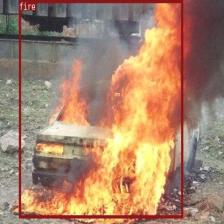fire: (19, 0, 182, 218)
